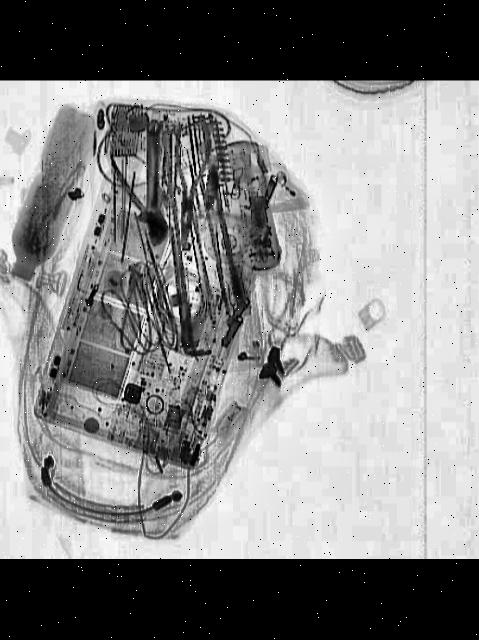Pliers: (166, 121, 212, 244)
